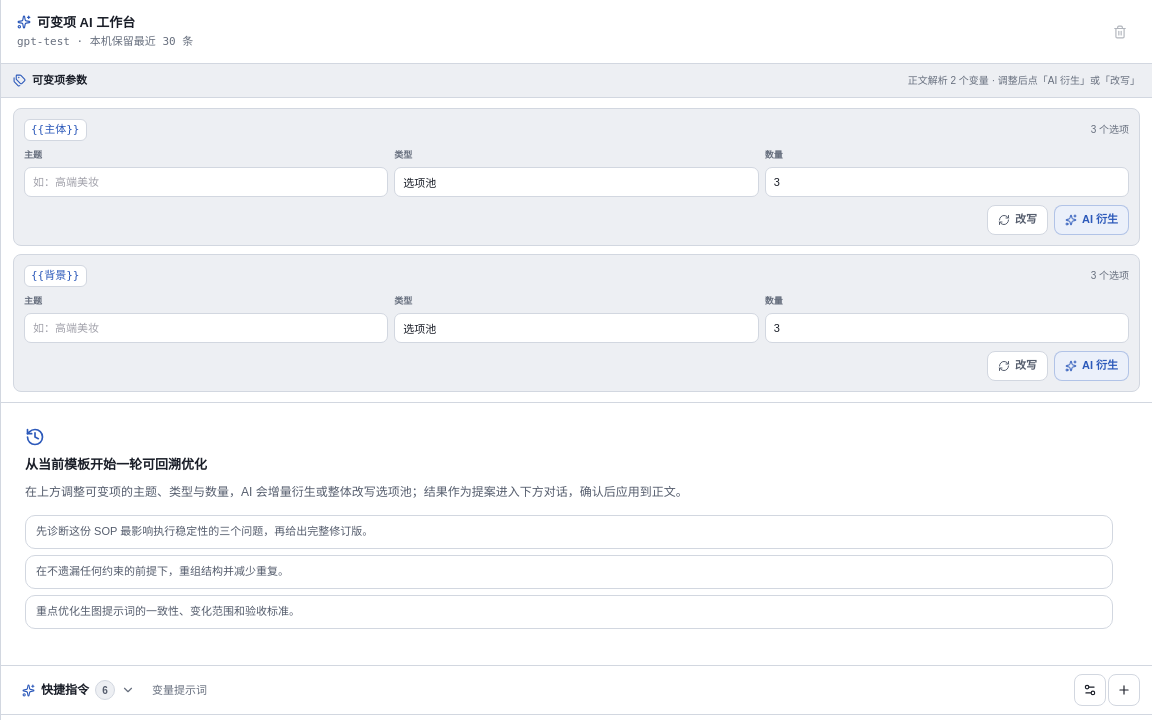
Test: SopAiRevisionPanel variable workspace › keeps the workspace usable when the AI option request fails
The image size is (1152, 720).
Click the 1st button "AI 衍生". click: x=1091, y=220
box: x1=1054 y1=204 x2=1129 y2=234
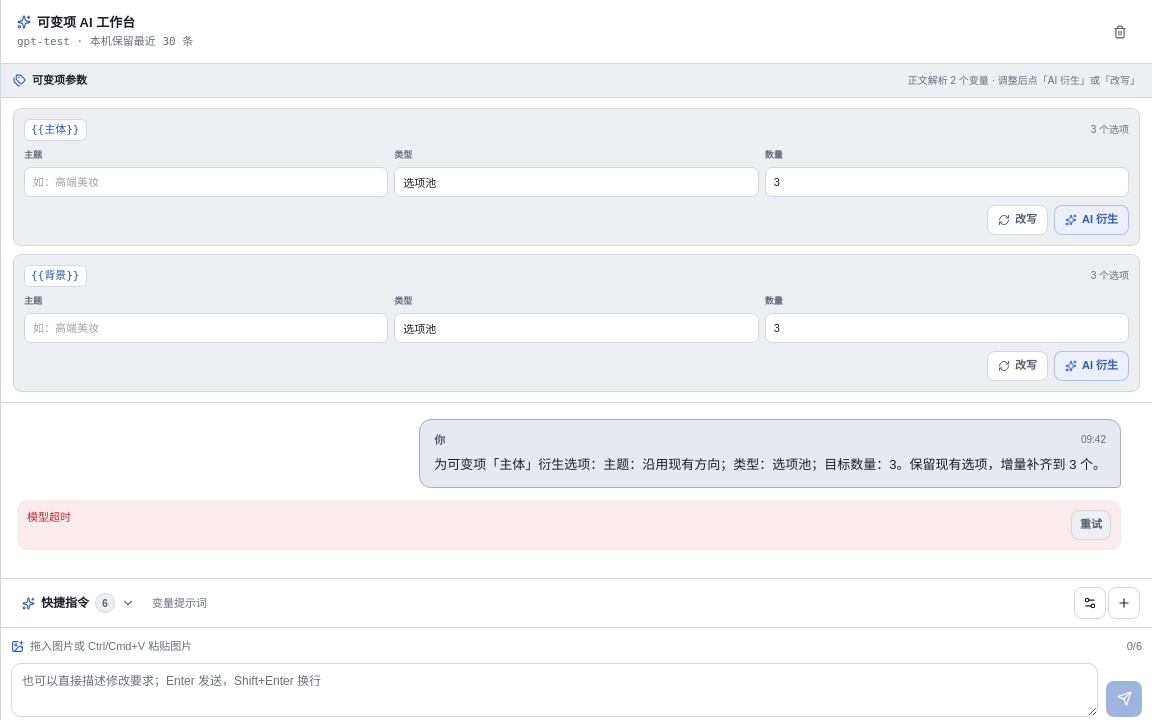
Expected: the text "模型超时" is shown, x1=27 y1=510 x2=71 y2=526
